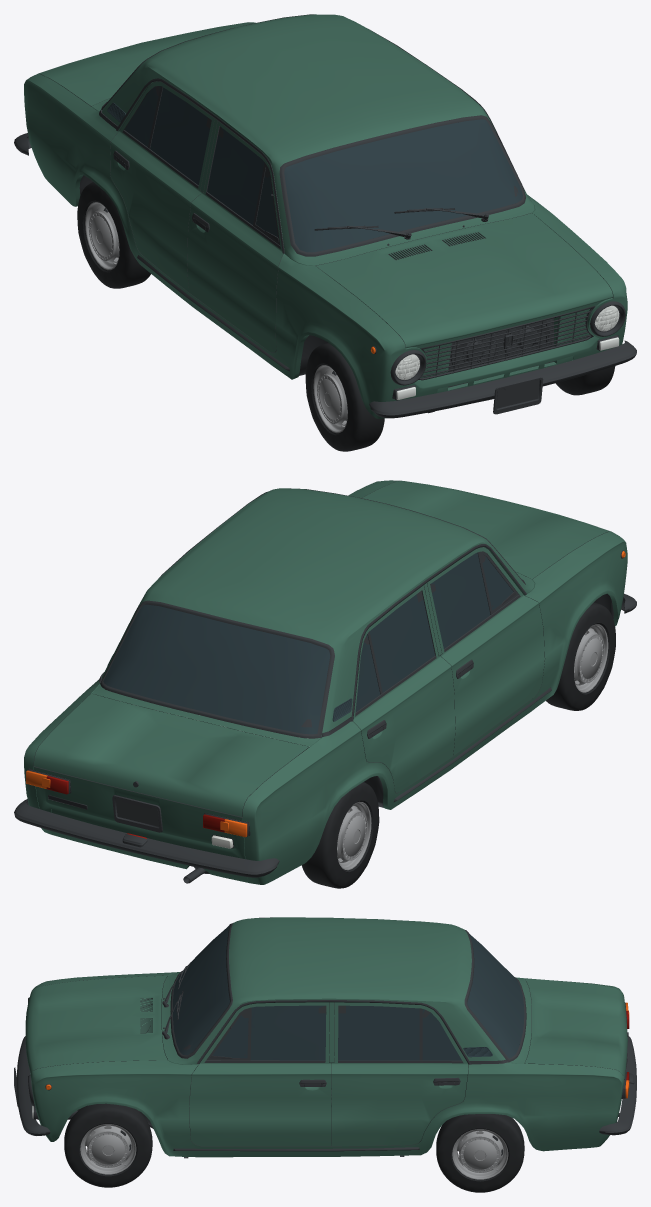
Rendered from vaz2101.glb.
3 renders of one model, top to bottom at view 1: azimuth 30°, elevation 25°; view 2: azimuth 150°, elevation 25°; view 3: azimuth 270°, elevation 25°, orthographic. The views are drawn at different scales.
Visible parts, largest first — view 1: chassisbody, glass, interior, chassis_trim, wheel_fr, wheel_rr, headlights, wheel_fl; view 2: chassisbody, glass, interior, chassis_trim, wheel_rr, wheel_fr, taillights; view 3: chassisbody, glass, interior, wheel_fl, wheel_rl, chassis_trim.
Part boxes in pixels (x1,y1,x2,y2): chassisbody: (24,14,627,418); glass: (107,86,522,252); interior: (14,14,636,418); chassis_trim: (39,22,613,414); wheel_fr: (305,343,384,451); wheel_rr: (77,182,150,288); headlights: (395,305,619,399); wheel_fl: (556,366,615,395); chassisbody: (24,480,627,884); glass: (103,552,513,734); interior: (14,488,636,882); chassis_trim: (33,480,608,883); wheel_rr: (302,782,379,888); wheel_fr: (546,602,615,710); taillights: (46,776,225,832); chassisbody: (25,917,627,1157); glass: (173,925,524,1060); interior: (17,917,636,1158); wheel_fl: (64,1103,152,1187); wheel_rl: (436,1114,524,1192); chassis_trim: (14,962,634,1146).
Size of the model in its own units: 1.71 by 1.48 by 4.26.
